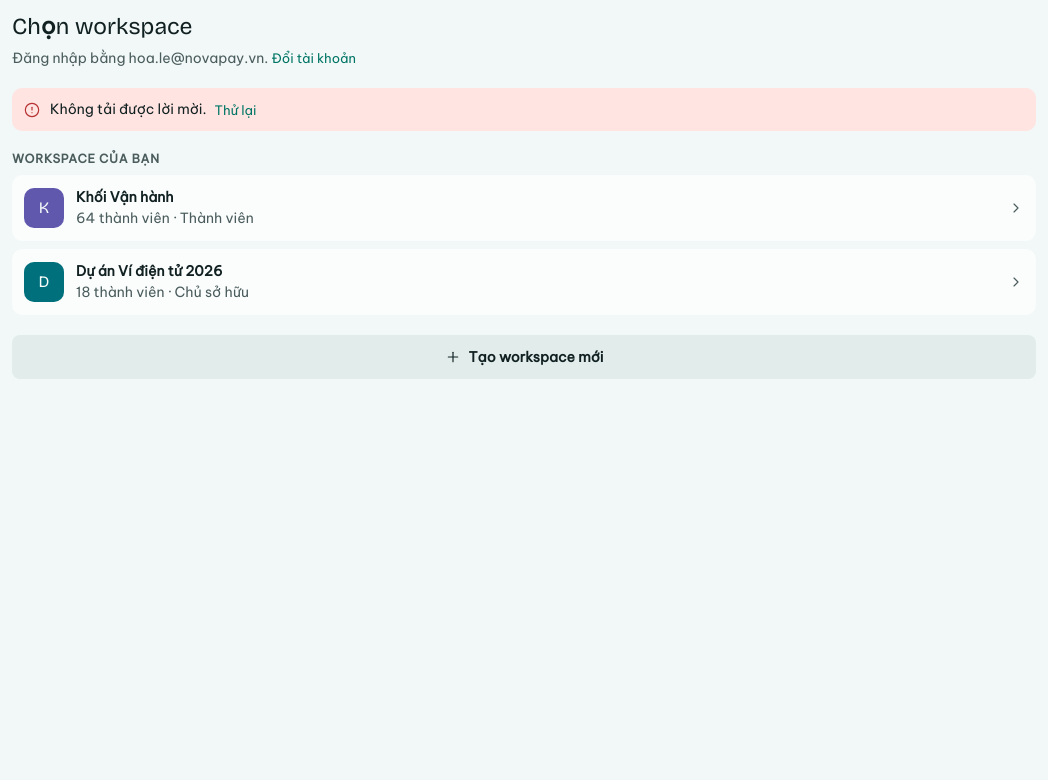
Test case: Workspace selection: invitations › says it could not load the offers, keeps the workspaces, and retries
Expected: the text "Không tải được lời mời. Thử lại" is shown, [50,100,256,119]
Click the button "Thử lại" at (236, 110), box [214,101,256,119]
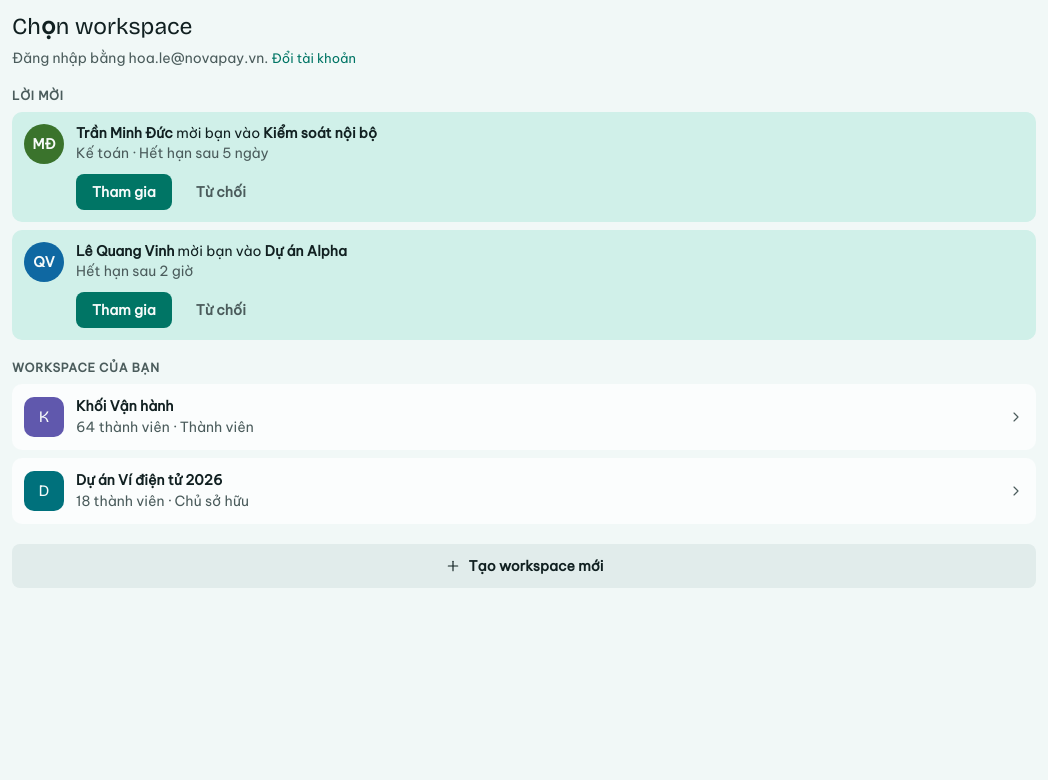
Expected: the text "Trần Minh Đức" is shown, [76,124,173,142]
